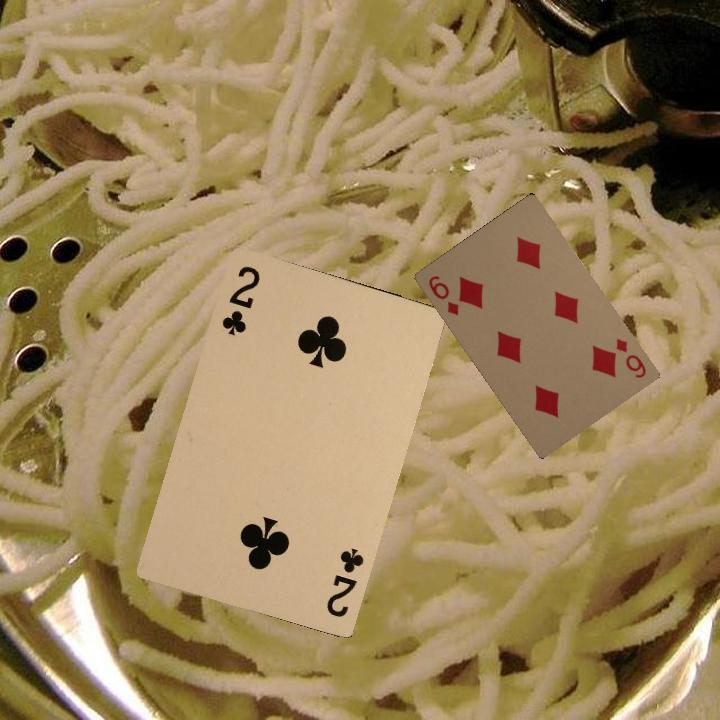2c: (217, 261, 263, 339), (322, 544, 367, 620)
6d: (424, 271, 461, 318), (612, 334, 649, 381)
